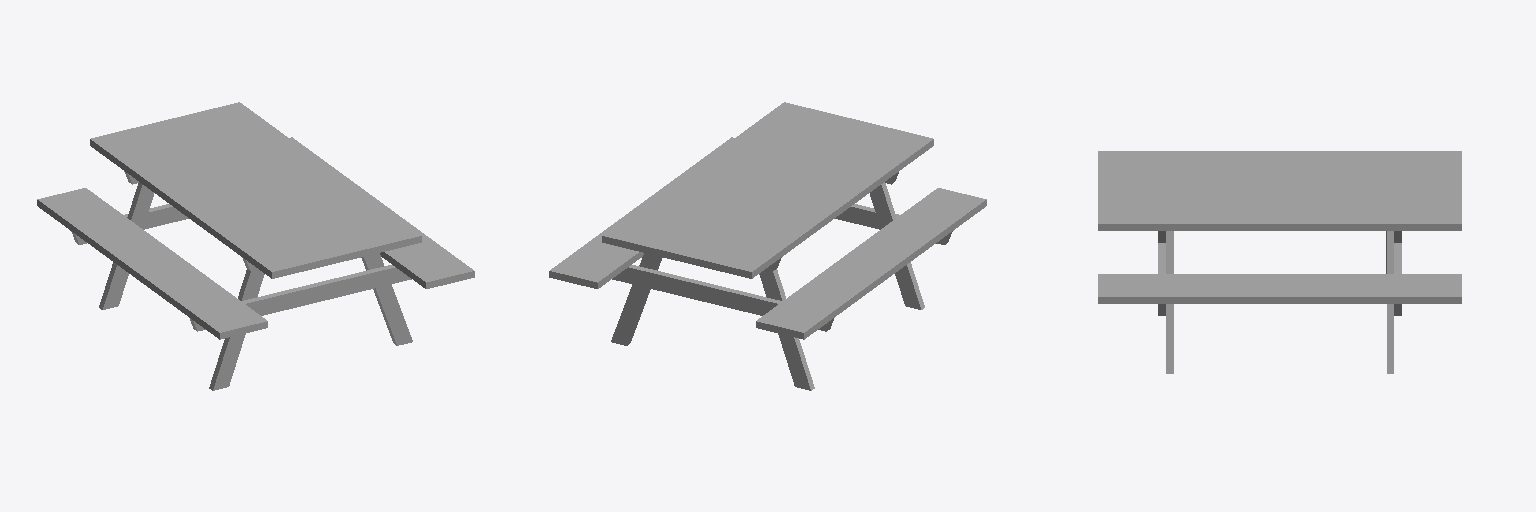
3 views of the same model, side by side, from view 1: azimuth 30°, elevation 25°; view 2: azimuth 150°, elevation 25°; view 3: azimuth 270°, elevation 25° (orthographic).
Parts seen in each view (by area): view 1: Object_picnic-table4.jpg; view 2: Object_picnic-table4.jpg; view 3: Object_picnic-table4.jpg.
Part boxes in pixels (x1,y1,x2,y2): Object_picnic-table4.jpg: (37,102,474,390); Object_picnic-table4.jpg: (549,102,986,390); Object_picnic-table4.jpg: (1098,151,1461,373).
Size of the model in its own units: 2.02 by 1.04 by 2.5.